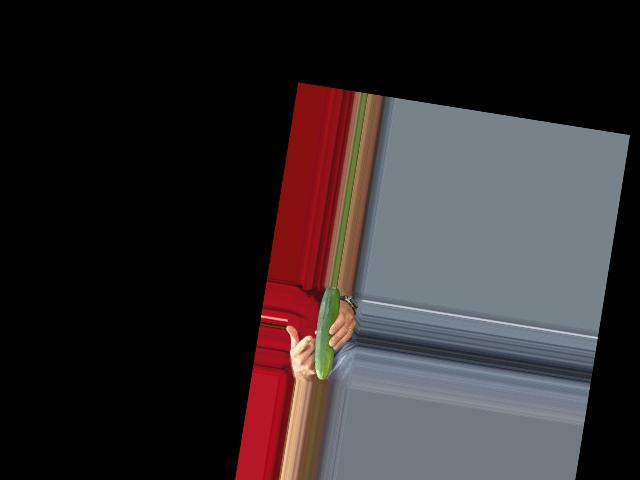cucumber: (309, 284, 345, 380)
